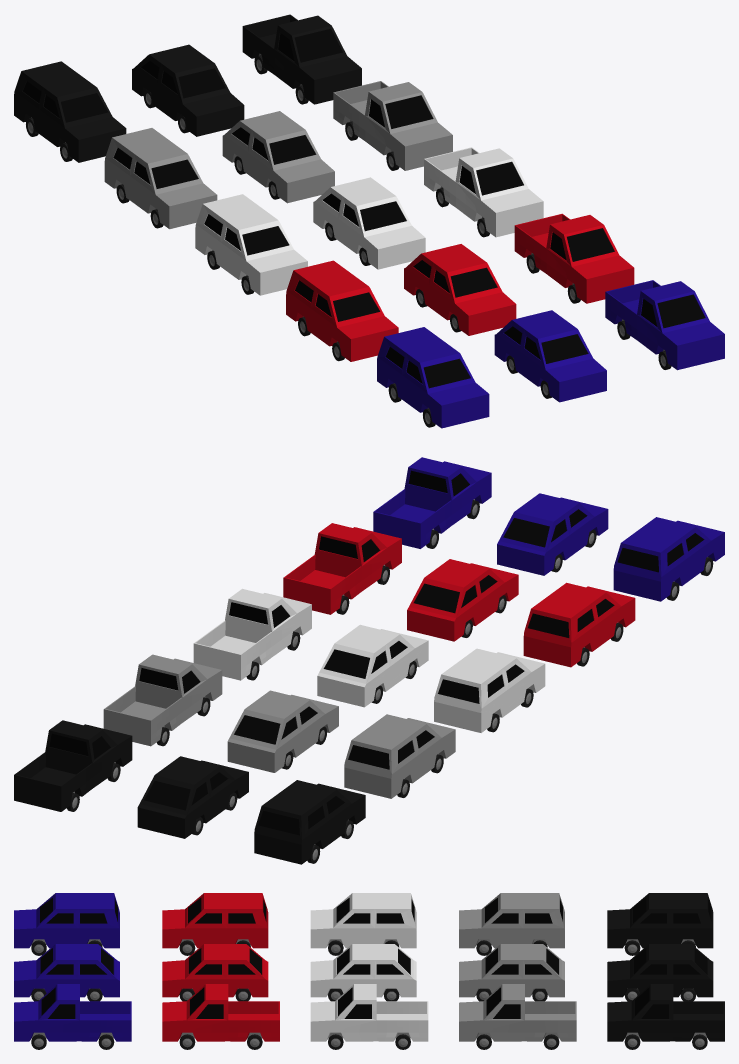
File: CargoCarsModel.fbx
3 views of the same model, one above another, from view 1: azimuth 30°, elevation 25°; view 2: azimuth 150°, elevation 25°; view 3: azimuth 270°, elevation 25° (orthographic). The views are drawn at different scales.
Parts seen in each view (by area): view 1: SUVBlue, FordBlue, SUVGray, SUVWhite, SUVRed, SUVBlack, FordRed, FordBlack, FordWhite, FordGray, SedanBlue, SedanGray (+3 smaller); view 2: FordBlack, FordGray, FordRed, FordWhite, FordBlue, SUVRed, SUVBlue, SUVBlack, SUVGray, SUVWhite, SedanWhite, SedanGray (+3 smaller); view 3: FordWhite, FordRed, FordBlack, FordBlue, FordGray, SUVWhite, SUVRed, SUVBlack, SUVBlue, SUVGray, SedanWhite, SedanBlack (+3 smaller).
Boxes of the visible parts, left/top/right/bottom form: SUVBlue: left=377, top=327, right=489, bottom=428; FordBlue: left=605, top=280, right=724, bottom=370; SUVGray: left=104, top=128, right=217, bottom=229; SUVWhite: left=195, top=194, right=307, bottom=295; SUVRed: left=286, top=260, right=398, bottom=361; SUVBlack: left=14, top=61, right=126, bottom=162; FordRed: left=514, top=213, right=634, bottom=303; FordBlack: left=242, top=14, right=361, bottom=104; FordWhite: left=424, top=147, right=543, bottom=237; FordGray: left=333, top=81, right=452, bottom=170; SedanBlue: left=494, top=310, right=606, bottom=402; SedanGray: left=222, top=111, right=334, bottom=203; FordBlack: left=14, top=720, right=132, bottom=811; FordGray: left=103, top=654, right=222, bottom=746; FordRed: left=283, top=523, right=401, bottom=614; FordWhite: left=193, top=588, right=311, bottom=680; FordBlue: left=373, top=457, right=491, bottom=548; SUVRed: left=523, top=582, right=635, bottom=667; SUVBlue: left=613, top=517, right=724, bottom=601; SUVBlack: left=254, top=780, right=365, bottom=864; SUVGray: left=344, top=714, right=455, bottom=798; SUVWhite: left=434, top=648, right=545, bottom=732; SedanWhite: left=317, top=624, right=428, bottom=707; SedanGray: left=227, top=690, right=338, bottom=772; FordWhite: left=310, top=984, right=428, bottom=1049; FordRed: left=162, top=984, right=279, bottom=1049; FordBlack: left=607, top=984, right=724, bottom=1049; FordBlue: left=14, top=984, right=131, bottom=1049; FordGray: left=459, top=984, right=576, bottom=1049; SUVWhite: left=310, top=893, right=416, bottom=955; SUVRed: left=162, top=893, right=268, bottom=955; SUVBlack: left=607, top=893, right=713, bottom=955; SUVBlue: left=14, top=893, right=119, bottom=955; SUVGray: left=459, top=893, right=564, bottom=955; SedanWhite: left=310, top=944, right=416, bottom=1001; SedanBlack: left=607, top=944, right=713, bottom=1001.
Size of the model in its own units: 721 by 145 by 1917.
